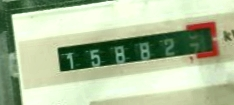1: (63, 51, 74, 70)
2: (161, 36, 175, 57)
5: (85, 47, 101, 68)
7: (186, 40, 199, 53)
8: (135, 39, 151, 61), (112, 43, 126, 64)
screen: (50, 19, 222, 80)
